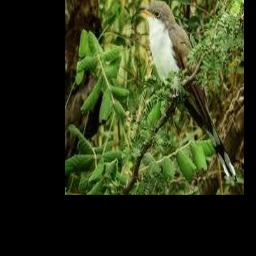Cuckoo: (136, 1, 236, 178)
